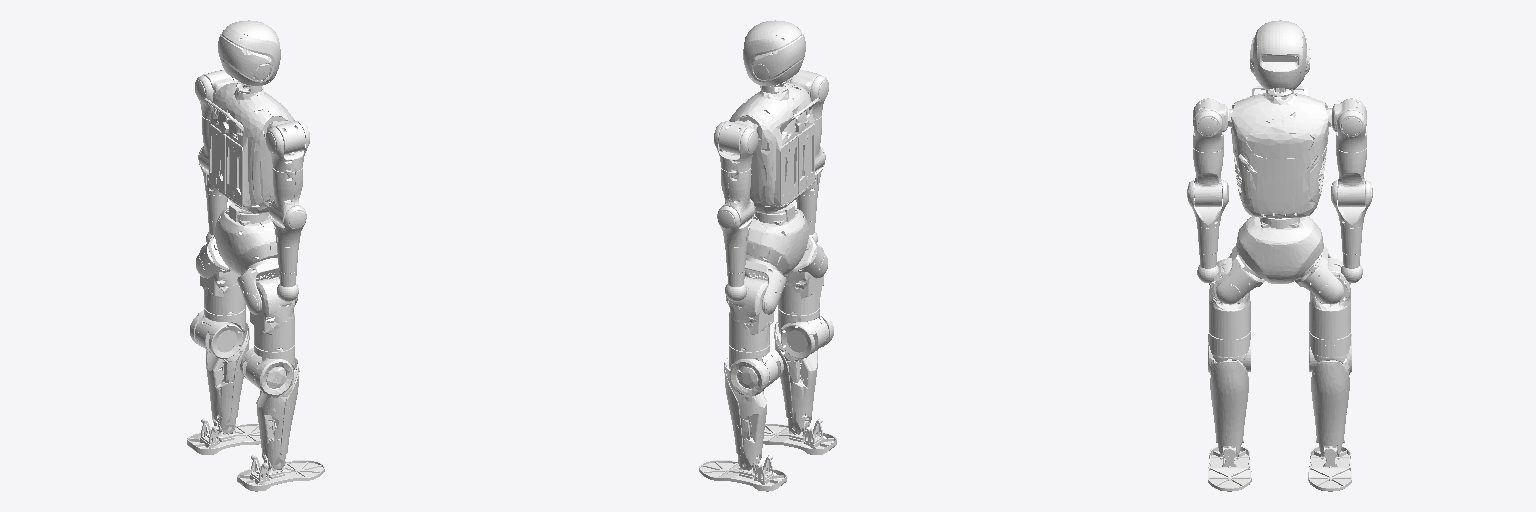
--- Render facts (derived) ---
3 views of the same robot in one strip: view 1: azimuth 30°, elevation 25°; view 2: azimuth 150°, elevation 25°; view 3: azimuth 270°, elevation 25° (orthographic).
Model biped_s13 with 39 links and 38 joints (23 revolute, 15 fixed), rooted at dummy_link, posed every joint at zero.
Visible links, largest first — view 1: base_link, leg_r4_link, zhead_2_link, waist, leg_l4_link, leg_r2_link, zarm_r4_link, leg_l3_link, leg_r6_link, leg_l6_link, leg_l2_link, zarm_r3_link (+7 smaller); view 2: base_link, leg_l4_link, zhead_2_link, waist, leg_r4_link, leg_l2_link, zarm_l4_link, leg_r3_link, leg_l6_link, leg_r6_link, leg_r2_link, zarm_l3_link (+7 smaller); view 3: base_link, waist, zhead_2_link, leg_r4_link, leg_l4_link, leg_l2_link, leg_r2_link, zarm_r4_link, zarm_l4_link, leg_l6_link, leg_r6_link, zarm_l3_link (+7 smaller).
Link boxes in pixels (x1,y1,x2,y2): base_link: (204,83,294,213); leg_r4_link: (256,357,299,469); zhead_2_link: (218,20,280,85); waist: (213,203,277,275); leg_l4_link: (190,310,249,434); leg_r2_link: (250,276,294,351); zarm_r4_link: (269,198,306,301); leg_l3_link: (195,307,245,358); leg_r6_link: (237,455,324,491); leg_l6_link: (187,418,260,454); leg_l2_link: (200,245,245,315); zarm_r3_link: (270,168,302,226); base_link: (729,82,819,213); leg_l4_link: (724,358,767,469); zhead_2_link: (743,20,805,85); waist: (746,203,808,275); leg_r4_link: (774,310,833,434); leg_l2_link: (729,276,773,351); zarm_l4_link: (717,199,754,301); leg_r3_link: (778,307,828,358); leg_l6_link: (699,455,786,491); leg_r6_link: (763,418,836,454); leg_r2_link: (778,245,823,315); zarm_l3_link: (721,168,753,226); base_link: (1228,86,1331,217); waist: (1236,216,1323,283); zhead_2_link: (1250,20,1310,89); leg_r4_link: (1208,334,1248,457); leg_l4_link: (1311,334,1351,457); leg_l2_link: (1309,258,1350,339); leg_r2_link: (1209,258,1250,339); zarm_r4_link: (1187,180,1228,282); zarm_l4_link: (1331,180,1372,282); leg_l6_link: (1308,438,1351,491); leg_r6_link: (1208,438,1251,491); zarm_l3_link: (1336,148,1366,206).
Bounding box of the posed robot: 0.215 × 0.4212 × 1.11 m (x, y, z).
24 mesh visuals loaded from 24 distinct referenced files (24 binary STL).

The robot description file, URDF, robot "biped_s13":
<?xml version='1.0' encoding='utf-8'?>
<robot name="biped_s13">
  <mujoco>
    <compiler meshdir="../meshes/" balanceinertia="true" discardvisual="false" />
  </mujoco>
  <link name="dummy_link" />
  <link name="base_link">
    <inertial>
      <origin xyz="0.00227055 0.0 0.1163574" rpy="0 0 0" />
      <mass value="4.60608758" />
      <inertia ixx="0.06356019" ixy="0.0" ixz="0.0" iyy="0.05314952" iyz="0.0" izz="0.03434989" />
    </inertial>
    <visual>
      <origin xyz="0 0 0" rpy="0 0 0" />
      <geometry>
        <mesh filename="package://kuavo_assets/models/biped_s13/meshes/torso.STL" />
      </geometry>
      <material name="">
        <color rgba="1 1 1 1" />
      </material>
    </visual>
  </link>
  <joint name="dummy_to_base_link" type="fixed">
    <origin xyz="0 0 0" rpy="0 0 0" />
    <parent link="dummy_link" />
    <child link="base_link" />
    <dynamics damping="0.2" friction="0.0"/>
  </joint>
  <link name="waist">
    <inertial>
      <origin xyz="0.0016929 0.0 -0.11846153" rpy="0 0 0" />
      <mass value="5.17438719" />
      <inertia ixx="0.02255553" ixy="0.0" ixz="0.0" iyy="0.01532955" iyz="0.0" izz="0.01667096" />
    </inertial>
    <visual>
      <origin xyz="0 0 0" rpy="0 0 0" />
      <geometry>
        <mesh filename="package://kuavo_assets/models/biped_s13/meshes/waist.STL" />
      </geometry>
      <material name="">
        <color rgba="1 1 1 1" />
      </material>
    </visual>
  </link>
  <joint name="waist_joint" type="revolute">
    <origin xyz="0 0 0" rpy="0 0 0" />
    <parent link="base_link" />
    <child link="waist" />
    <axis xyz="0 0 1" />
    <limit lower="-2.0943951023932" upper="2.0943951023932" effort="50" velocity="8.37333333333333" />
    <dynamics damping="0.2" friction="0.0"/>
  </joint>
  <link name="leg_l1_link">
    <inertial>
      <origin xyz="-0.01281625 -0.02411867 0.0242652" rpy="0 0 0" />
      <mass value="0.41179806" />
      <inertia ixx="0.00053434" ixy="-1.716e-05" ixz="1.637e-05" iyy="0.00095375" iyz="6.321e-05" izz="0.00095062" />
    </inertial>
    <visual>
      <origin xyz="0 0 0" rpy="0 0 0" />
      <geometry>
        <mesh filename="package://kuavo_assets/models/biped_s13/meshes/l_leg_pitch.STL" />
      </geometry>
      <material name="">
        <color rgba="1 1 1 1" />
      </material>
    </visual>
  </link>
  <joint name="leg_l1_joint" type="revolute">
    <origin xyz="0.0 0.1143350698 -0.21673502307" rpy="0 0 0" />
    <parent link="waist" />
    <child link="leg_l1_link" />
    <axis xyz="0 0.70711 -0.70711" />
    <limit lower="-1.65806278939461" upper="1.5707963267949" effort="180" velocity="23.55" />
    <dynamics damping="0.2" friction="0.0" />
  </joint>
  <link name="leg_l2_link">
    <inertial>
      <origin xyz="-0.00113407 0.00022674 -0.055039" rpy="0 0 0" />
      <mass value="2.60733021" />
      <inertia ixx="0.00748166" ixy="0.0" ixz="0.0" iyy="0.00726718" iyz="0.0" izz="0.00283326" />
    </inertial>
    <visual>
      <origin xyz="0 0 0" rpy="0 0 0" />
      <geometry>
        <mesh filename="package://kuavo_assets/models/biped_s13/meshes/l_leg_roll.STL" />
      </geometry>
      <material name="">
        <color rgba="1 1 1 1" />
      </material>
    </visual>
  </link>
  <joint name="leg_l2_joint" type="revolute">
    <origin xyz="0 0 0" rpy="0 0 0" />
    <parent link="leg_l1_link" />
    <child link="leg_l2_link" />
    <axis xyz="1 0 0" />
    <limit lower="-1.0471975511966" upper="0.847008285992848" effort="100" velocity="41.3433333333333" />
    <dynamics damping="0.2" friction="0.0" />
  </joint>
  <link name="leg_l3_link">
    <inertial>
      <origin xyz="-0.01486413 -0.00438159 -0.17562576" rpy="0 0 0" />
      <mass value="1.03798929" />
      <inertia ixx="0.00130665" ixy="0.0" ixz="0.0" iyy="0.00143771" iyz="0.0" izz="0.00092289" />
    </inertial>
    <visual>
      <origin xyz="0 0 0" rpy="0 0 0" />
      <geometry>
        <mesh filename="package://kuavo_assets/models/biped_s13/meshes/l_leg_yaw.STL" />
      </geometry>
      <material name="">
        <color rgba="1 1 1 1" />
      </material>
    </visual>
  </link>
  <joint name="leg_l3_joint" type="revolute">
    <origin xyz="0 0 0" rpy="0 0 0" />
    <parent link="leg_l2_link" />
    <child link="leg_l3_link" />
    <axis xyz="0 0 1" />
    <limit lower="-1.91986217719376" upper="0.878424212528746" effort="100" velocity="41.3433333333333" />
    <dynamics damping="0.2" friction="0.0" />
  </joint>
  <link name="leg_l4_link">
    <inertial>
      <origin xyz="0.02276414 0.00634133 -0.09717249" rpy="0 0 0" />
      <mass value="1.78407172" />
      <inertia ixx="0.00775509" ixy="0.0" ixz="0.0" iyy="0.00820174" iyz="0.0" izz="0.00156093" />
    </inertial>
    <visual>
      <origin xyz="0 0 0" rpy="0 0 0" />
      <geometry>
        <mesh filename="package://kuavo_assets/models/biped_s13/meshes/l_knee.STL" />
      </geometry>
      <material name="">
        <color rgba="1 1 1 1" />
      </material>
    </visual>
  </link>
  <joint name="leg_l4_joint" type="revolute">
    <origin xyz="-0.021 0 -0.182" rpy="0 0 0" />
    <parent link="leg_l3_link" />
    <child link="leg_l4_link" />
    <axis xyz="0 1 0" />
    <limit lower="0.0" upper="2.61799387799149" effort="180" velocity="23.55" />
    <dynamics damping="0.2" friction="0.0" />
  </joint>
  <link name="leg_l5_link">
    <inertial>
      <origin xyz="0.0 0.0 0.0" rpy="0 0 0" />
      <mass value="0.06923766" />
      <inertia ixx="6.7e-04" ixy="0.0" ixz="0.0" iyy="6.7e-04" iyz="0.0" izz="1.172e-04" />
    </inertial>
    <visual>
      <origin xyz="0 0 0" rpy="0 0 0" />
      <geometry>
        <mesh filename="package://kuavo_assets/models/biped_s13/meshes/l_foot_pitch.STL" />
      </geometry>
      <material name="">
        <color rgba="1 1 1 1" />
      </material>
    </visual>
  </link>
  <joint name="leg_l5_joint" type="revolute">
    <origin xyz="0.021 0 -0.235" rpy="0 0 0" />
    <parent link="leg_l4_link" />
    <child link="leg_l5_link" />
    <axis xyz="0 1 0" />
    <limit lower="-0.872664625997165" upper="0.523598775598299" effort="36" velocity="23.0266666666667" />
    <dynamics damping="0.2" friction="0.0" />
  </joint>
  <link name="leg_l6_link">
    <inertial>
      <origin xyz="-0.00076721 2.797e-05 -0.02337788" rpy="0 0 0" />
      <mass value="0.38565431" />
      <inertia ixx="0.00026927" ixy="0.0" ixz="0.0" iyy="0.00114572" iyz="0.0" izz="0.00129886" />
    </inertial>
    <visual>
      <origin xyz="0 0 0" rpy="0 0 0" />
      <geometry>
        <mesh filename="package://kuavo_assets/models/biped_s13/meshes/l_foot_roll_big.STL" />
      </geometry>
      <material name="">
        <color rgba="1 1 1 1" />
      </material>
    </visual>
  </link>
  <joint name="leg_l6_joint" type="revolute">
    <origin xyz="0 0 0" rpy="0 0 0" />
    <parent link="leg_l5_link" />
    <child link="leg_l6_link" />
    <axis xyz="1 0 0" />
    <limit lower="-0.261799387799149" upper="0.261799387799149" effort="36" velocity="23.0266666666667" />
    <dynamics damping="0.2" friction="0.0" />
  </joint>
  <link name="ll_foot_toe">
    <collision>
      <origin rpy="0 0 0" xyz="0 0 0" />
      <geometry>
        <sphere radius="0.005" />
      </geometry>
    </collision>
  </link>
  <joint name="ll_foot_toe_joint" type="fixed">
    <origin xyz="0.126 0.05 -0.0435" rpy="0 0 0" />
    <parent link="leg_l6_link" />
    <child link="ll_foot_toe" />
  </joint>
  <link name="ll_foot_heel">
    <collision>
      <origin rpy="0 0 0" xyz="0 0 0" />
      <geometry>
        <sphere radius="0.005" />
      </geometry>
    </collision>
  </link>
  <joint name="ll_foot_heel_joint" type="fixed">
    <origin xyz="-0.089 0.05 -0.0435" rpy="0 0 0" />
    <parent link="leg_l6_link" />
    <child link="ll_foot_heel" />
  </joint>
  <link name="lr_foot_toe">
    <collision>
      <origin rpy="0 0 0" xyz="0 0 0" />
      <geometry>
        <sphere radius="0.005" />
      </geometry>
    </collision>
  </link>
  <joint name="lr_foot_toe_joint" type="fixed">
    <origin xyz="0.126 -0.05 -0.0435" rpy="0 0 0" />
    <parent link="leg_l6_link" />
    <child link="lr_foot_toe" />
  </joint>
  <link name="lr_foot_heel">
    <collision>
      <origin rpy="0 0 0" xyz="0 0 0" />
      <geometry>
        <sphere radius="0.005" />
      </geometry>
    </collision>
  </link>
  <joint name="lr_foot_heel_joint" type="fixed">
    <origin xyz="-0.089 -0.05 -0.0435" rpy="0 0 0" />
    <parent link="leg_l6_link" />
    <child link="lr_foot_heel" />
  </joint>
  <link name="l_foot_toe">
    <collision>
      <origin rpy="0 0 0" xyz="0 0 0" />
      <geometry>
        <sphere radius="0.005" />
      </geometry>
    </collision>
  </link>
  <joint name="l_foot_toe_joint" type="fixed">
    <origin xyz="-0.02 0.05 -0.0435" rpy="0 0 0" />
    <parent link="leg_l6_link" />
    <child link="l_foot_toe" />
  </joint>
  <link name="l_foot_heel">
    <collision>
      <origin rpy="0 0 0" xyz="0 0 0" />
      <geometry>
        <sphere radius="0.005" />
      </geometry>
    </collision>
  </link>
  <joint name="l_foot_heel_joint" type="fixed">
    <origin xyz="-0.02 -0.05 -0.0435" rpy="0 0 0" />
    <parent link="leg_l6_link" />
    <child link="l_foot_heel" />
  </joint>
  <link name="leg_r1_link">
    <inertial>
      <origin xyz="-0.01281237 0.02411826 0.02426469" rpy="0 0 0" />
      <mass value="0.4119068" />
      <inertia ixx="0.00053445" ixy="1.725e-05" ixz="1.639e-05" iyy="0.00095388" iyz="-6.324e-05" izz="0.00095076" />
    </inertial>
    <visual>
      <origin xyz="0 0 0" rpy="0 0 0" />
      <geometry>
        <mesh filename="package://kuavo_assets/models/biped_s13/meshes/r_leg_pitch.STL" />
      </geometry>
      <material name="">
        <color rgba="1 1 1 1" />
      </material>
    </visual>
  </link>
  <joint name="leg_r1_joint" type="revolute">
    <origin xyz="0.0 -0.1143350698 -0.21673502307" rpy="0 0 0" />
    <parent link="waist" />
    <child link="leg_r1_link" />
    <axis xyz="0 -0.70711 -0.70711" />
    <limit lower="-1.65806278939461" upper="1.5707963267949" effort="180" velocity="23.55" />
    <dynamics damping="0.2" friction="0.0" />
  </joint>
  <link name="leg_r2_link">
    <inertial>
      <origin xyz="-0.00091249 -5.402e-05 -0.0552687" rpy="0 0 0" />
      <mass value="2.60770806" />
      <inertia ixx="0.00748166" ixy="0.0" ixz="0.0" iyy="0.00726718" iyz="0.0" izz="0.00283326" />
    </inertial>
    <visual>
      <origin xyz="0 0 0" rpy="0 0 0" />
      <geometry>
        <mesh filename="package://kuavo_assets/models/biped_s13/meshes/r_leg_roll.STL" />
      </geometry>
      <material name="">
        <color rgba="1 1 1 1" />
      </material>
    </visual>
  </link>
  <joint name="leg_r2_joint" type="revolute">
    <origin xyz="0 0 0" rpy="0 0 0" />
    <parent link="leg_r1_link" />
    <child link="leg_r2_link" />
    <axis xyz="1 0 0" />
    <limit lower="-1.0471975511966" upper="0.847008285992848" effort="100" velocity="41.3433333333333" />
    <dynamics damping="0.2" friction="0.0" />
  </joint>
  <link name="leg_r3_link">
    <inertial>
      <origin xyz="-0.0150602 0.00499577 -0.17454657" rpy="0 0 0" />
      <mass value="1.03798252" />
      <inertia ixx="0.00130665" ixy="0.0" ixz="0.0" iyy="0.00143771" iyz="0.0" izz="0.00092289" />
    </inertial>
    <visual>
      <origin xyz="0 0 0" rpy="0 0 0" />
      <geometry>
        <mesh filename="package://kuavo_assets/models/biped_s13/meshes/r_leg_yaw.STL" />
      </geometry>
      <material name="">
        <color rgba="1 1 1 1" />
      </material>
    </visual>
  </link>
  <joint name="leg_r3_joint" type="revolute">
    <origin xyz="0 0 0" rpy="0 0 0" />
    <parent link="leg_r2_link" />
    <child link="leg_r3_link" />
    <axis xyz="0 0 1" />
    <limit lower="-1.91986217719376" upper="0.878424212528746" effort="100" velocity="41.3433333333333" />
    <dynamics damping="0.2" friction="0.0" />
  </joint>
  <link name="leg_r4_link">
    <inertial>
      <origin xyz="0.02271993 -0.0079271 -0.09808788" rpy="0 0 0" />
      <mass value="1.78444026" />
      <inertia ixx="0.00775509" ixy="0.0" ixz="0.0" iyy="0.00820174" iyz="0.0" izz="0.00156093" />
    </inertial>
    <visual>
      <origin xyz="0 0 0" rpy="0 0 0" />
      <geometry>
        <mesh filename="package://kuavo_assets/models/biped_s13/meshes/r_knee.STL" />
      </geometry>
      <material name="">
        <color rgba="1 1 1 1" />
      </material>
    </visual>
  </link>
  <joint name="leg_r4_joint" type="revolute">
    <origin xyz="-0.021 0 -0.182" rpy="0 0 0" />
    <parent link="leg_r3_link" />
    <child link="leg_r4_link" />
    <axis xyz="0 1 0" />
    <limit lower="0.0" upper="2.61799387799149" effort="180" velocity="23.55" />
    <dynamics damping="0.2" friction="0.0" />
  </joint>
  <link name="leg_r5_link">
    <inertial>
      <origin xyz="0.0 0.0 0.0" rpy="0 0 0" />
      <mass value="0.06923766" />
      <inertia ixx="6.7e-04" ixy="0.0" ixz="0.0" iyy="6.7e-04" iyz="0.0" izz="1.172e-04" />
    </inertial>
    <visual>
      <origin xyz="0 0 0" rpy="0 0 0" />
      <geometry>
        <mesh filename="package://kuavo_assets/models/biped_s13/meshes/r_foot_pitch.STL" />
      </geometry>
      <material name="">
        <color rgba="1 1 1 1" />
      </material>
    </visual>
  </link>
  <joint name="leg_r5_joint" type="revolute">
    <origin xyz="0.021 0 -0.235" rpy="0 0 0" />
    <parent link="leg_r4_link" />
    <child link="leg_r5_link" />
    <axis xyz="0 1 0" />
    <limit lower="-0.872664625997165" upper="0.523598775598299" effort="36" velocity="23.0266666666667" />
    <dynamics damping="0.2" friction="0.0" />
  </joint>
  <link name="leg_r6_link">
    <inertial>
      <origin xyz="-0.00075494 -2.665e-05 -0.02339266" rpy="0 0 0" />
      <mass value="0.38537958" />
      <inertia ixx="0.00026927" ixy="0.0" ixz="0.0" iyy="0.00114572" iyz="0.0" izz="0.00129886" />
    </inertial>
    <visual>
      <origin xyz="0 0 0" rpy="0 0 0" />
      <geometry>
        <mesh filename="package://kuavo_assets/models/biped_s13/meshes/r_foot_roll_big.STL" />
      </geometry>
      <material name="">
        <color rgba="1 1 1 1" />
      </material>
    </visual>
  </link>
  <joint name="leg_r6_joint" type="revolute">
    <origin xyz="0 0 0" rpy="0 0 0" />
    <parent link="leg_r5_link" />
    <child link="leg_r6_link" />
    <axis xyz="1 0 0" />
    <limit lower="-0.261799387799149" upper="0.261799387799149" effort="36" velocity="23.0266666666667" />
    <dynamics damping="0.2" friction="0.0" />
  </joint>
  <link name="rl_foot_toe">
    <collision>
      <origin rpy="0 0 0" xyz="0 0 0" />
      <geometry>
        <sphere radius="0.005" />
      </geometry>
    </collision>
  </link>
  <joint name="rl_foot_toe_joint" type="fixed">
    <origin xyz="0.126 0.05 -0.0435" rpy="0 0 0" />
    <parent link="leg_r6_link" />
    <child link="rl_foot_toe" />
  </joint>
  <link name="rl_foot_heel">
    <collision>
      <origin rpy="0 0 0" xyz="0 0 0" />
      <geometry>
        <sphere radius="0.005" />
      </geometry>
    </collision>
  </link>
  <joint name="rl_foot_heel_joint" type="fixed">
    <origin xyz="-0.089 0.05 -0.0435" rpy="0 0 0" />
    <parent link="leg_r6_link" />
    <child link="rl_foot_heel" />
  </joint>
  <link name="rr_foot_toe">
    <collision>
      <origin rpy="0 0 0" xyz="0 0 0" />
      <geometry>
        <sphere radius="0.005" />
      </geometry>
    </collision>
  </link>
  <joint name="rr_foot_toe_joint" type="fixed">
    <origin xyz="0.126 -0.05 -0.0435" rpy="0 0 0" />
    <parent link="leg_r6_link" />
    <child link="rr_foot_toe" />
  </joint>
  <link name="rr_foot_heel">
    <collision>
      <origin rpy="0 0 0" xyz="0 0 0" />
      <geometry>
        <sphere radius="0.005" />
      </geometry>
    </collision>
  </link>
  <joint name="rr_foot_heel_joint" type="fixed">
    <origin xyz="-0.089 -0.05 -0.0435" rpy="0 0 0" />
    <parent link="leg_r6_link" />
    <child link="rr_foot_heel" />
  </joint>
  <link name="r_foot_toe">
    <collision>
      <origin rpy="0 0 0" xyz="0 0 0" />
      <geometry>
        <sphere radius="0.005" />
      </geometry>
    </collision>
  </link>
  <joint name="r_foot_toe_joint" type="fixed">
    <origin xyz="-0.02 0.05 -0.0435" rpy="0 0 0" />
    <parent link="leg_r6_link" />
    <child link="r_foot_toe" />
  </joint>
  <link name="r_foot_heel">
    <collision>
      <origin rpy="0 0 0" xyz="0 0 0" />
      <geometry>
        <sphere radius="0.005" />
      </geometry>
    </collision>
  </link>
  <joint name="r_foot_heel_joint" type="fixed">
    <origin xyz="-0.02 -0.05 -0.0435" rpy="0 0 0" />
    <parent link="leg_r6_link" />
    <child link="r_foot_heel" />
  </joint>
  <link name="zarm_l1_link">
    <inertial>
      <origin xyz="0.00335591 -0.00249177 1.895e-05" rpy="0 0 0" />
      <mass value="0.44491793" />
      <inertia ixx="0.00028057" ixy="3.5e-05" ixz="2.3e-05" iyy="0.00024754" iyz="7e-05" izz="0.0002873" />
    </inertial>
    <visual>
      <origin xyz="0 0 0" rpy="0 0 0" />
      <geometry>
        <mesh filename="package://kuavo_assets/models/biped_s13/meshes/l_arm_pitch.STL" />
      </geometry>
      <material name="">
        <color rgba="1 1 1 1" />
      </material>
    </visual>
  </link>
  <joint name="zarm_l1_joint" type="revolute">
    <origin xyz="0.0073474151 0.16250437899999998 0.20242688398" rpy="0 0 0" />
    <parent link="base_link" />
    <child link="zarm_l1_link" />
    <axis xyz="0 1 0" />
    <limit lower="-3.14159265358979" upper="2.0943951023932" effort="12" velocity="7.32666666666667" />
    <dynamics damping="0.2" friction="0.0" />
  </joint>
  <link name="zarm_l2_link">
    <inertial>
      <origin xyz="0.00025941 0.0 -0.03684584" rpy="0 0 0" />
      <mass value="0.2598439" />
      <inertia ixx="0.0003221" ixy="0.0" ixz="-6.2e-05" iyy="0.00043526" iyz="0.0" izz="0.00030902" />
    </inertial>
    <visual>
      <origin xyz="0 0 0" rpy="0 0 0" />
      <geometry>
        <mesh filename="package://kuavo_assets/models/biped_s13/meshes/l_arm_roll.STL" />
      </geometry>
      <material name="">
        <color rgba="1 1 1 1" />
      </material>
    </visual>
  </link>
  <joint name="zarm_l2_joint" type="revolute">
    <origin xyz="0 0 0" rpy="0 0 0" />
    <parent link="zarm_l1_link" />
    <child link="zarm_l2_link" />
    <axis xyz="1 0 0" />
    <limit lower="-0.349065850398866" upper="3.49065850398866" effort="12" velocity="7.32666666666667" />
    <dynamics damping="0.2" friction="0.0" />
  </joint>
  <link name="zarm_l3_link">
    <inertial>
      <origin xyz="-0.0001383 -0.00323921 -0.14314847" rpy="0 0 0" />
      <mass value="0.77406554" />
      <inertia ixx="0.00201794" ixy="-2.6e-05" ixz="-3e-05" iyy="0.00198657" iyz="-0.00011116" izz="0.00042873" />
    </inertial>
    <visual>
      <origin xyz="0 0 0" rpy="0 0 0" />
      <geometry>
        <mesh filename="package://kuavo_assets/models/biped_s13/meshes/l_arm_yaw.STL" />
      </geometry>
      <material name="">
        <color rgba="1 1 1 1" />
      </material>
    </visual>
  </link>
  <joint name="zarm_l3_joint" type="revolute">
    <origin xyz="0 0 0" rpy="0 0 0" />
    <parent link="zarm_l2_link" />
    <child link="zarm_l3_link" />
    <axis xyz="0 0 1" />
    <limit lower="-1.5707963267949" upper="1.5707963267949" effort="12" velocity="7.32666666666667" />
    <dynamics damping="0.2" friction="0.0" />
  </joint>
  <link name="zarm_l4_link">
    <inertial>
      <origin xyz="-0.00091965 -2.274e-05 -0.06567892" rpy="0 0 0" />
      <mass value="0.2274965" />
      <inertia ixx="0.00109021" ixy="-6.4e-05" ixz="8.8e-05" iyy="0.00099134" iyz="-1.9e-05" izz="0.00021171" />
    </inertial>
    <visual>
      <origin xyz="0 0 0" rpy="0 0 0" />
      <geometry>
        <mesh filename="package://kuavo_assets/models/biped_s13/meshes/l_forearm.STL" />
      </geometry>
      <material name="">
        <color rgba="1 1 1 1" />
      </material>
    </visual>
  </link>
  <joint name="zarm_l4_joint" type="revolute">
    <origin xyz="0 0 -0.188" rpy="0 0 0" />
    <parent link="zarm_l3_link" />
    <child link="zarm_l4_link" />
    <axis xyz="0 1 0" />
    <limit lower="-2.26892802759263" upper="0.0" effort="12" velocity="7.32666666666667" />
    <dynamics damping="0.2" friction="0.0" />
  </joint>
  <link name="zarm_l7_end_effector">
    <collision>
      <origin rpy="0 0 0" xyz="0 0 0" />
      <geometry>
        <sphere radius="0.005" />
      </geometry>
    </collision>
  </link>
  <joint name="zarm_l7_end_effector_joint" type="fixed">
    <origin xyz="0 -0.00 -0.17" rpy="0 0 0" />
    <parent link="zarm_l4_link" />
    <child link="zarm_l7_end_effector" />
  </joint>
  <link name="zarm_r1_link">
    <inertial>
      <origin xyz="0.00335581 0.00249177 1.809e-05" rpy="0 0 0" />
      <mass value="0.44491659" />
      <inertia ixx="0.00028057" ixy="-3.5e-05" ixz="2.4e-05" iyy="0.00024753" iyz="-6e-05" izz="0.00028729" />
    </inertial>
    <visual>
      <origin xyz="0 0 0" rpy="0 0 0" />
      <geometry>
        <mesh filename="package://kuavo_assets/models/biped_s13/meshes/r_arm_pitch.STL" />
      </geometry>
      <material name="">
        <color rgba="1 1 1 1" />
      </material>
    </visual>
  </link>
  <joint name="zarm_r1_joint" type="revolute">
    <origin xyz="0.0073474151 -0.16250437899999998 0.20242688398" rpy="0 0 0" />
    <parent link="base_link" />
    <child link="zarm_r1_link" />
    <axis xyz="0 1 0" />
    <limit lower="-3.14159265358979" upper="2.0943951023932" effort="12" velocity="7.32666666666667" />
    <dynamics damping="0.2" friction="0.0" />
  </joint>
  <link name="zarm_r2_link">
    <inertial>
      <origin xyz="0.0002594 0.0 -0.03684556" rpy="0 0 0" />
      <mass value="0.25983512" />
      <inertia ixx="0.00032209" ixy="0.0" ixz="-6.2e-05" iyy="0.00043526" iyz="0.0" izz="0.00030901" />
    </inertial>
    <visual>
      <origin xyz="0 0 0" rpy="0 0 0" />
      <geometry>
        <mesh filename="package://kuavo_assets/models/biped_s13/meshes/r_arm_roll.STL" />
      </geometry>
      <material name="">
        <color rgba="1 1 1 1" />
      </material>
    </visual>
  </link>
  <joint name="zarm_r2_joint" type="revolute">
    <origin xyz="0 0 0" rpy="0 0 0" />
    <parent link="zarm_r1_link" />
    <child link="zarm_r2_link" />
    <axis xyz="1 0 0" />
    <limit lower="-3.49065850398866" upper="0.349065850398866" effort="12" velocity="7.32666666666667" />
    <dynamics damping="0.2" friction="0.0" />
  </joint>
  <link name="zarm_r3_link">
    <inertial>
      <origin xyz="-0.00013784 0.00323927 -0.14314868" rpy="0 0 0" />
      <mass value="0.774042" />
      <inertia ixx="0.00201792" ixy="2.6e-05" ixz="-3e-05" iyy="0.00198653" iyz="0.00011115" izz="0.00042871" />
    </inertial>
    <visual>
      <origin xyz="0 0 0" rpy="0 0 0" />
      <geometry>
        <mesh filename="package://kuavo_assets/models/biped_s13/meshes/r_arm_yaw.STL" />
      </geometry>
      <material name="">
        <color rgba="1 1 1 1" />
      </material>
    </visual>
  </link>
  <joint name="zarm_r3_joint" type="revolute">
    <origin xyz="0 0 0" rpy="0 0 0" />
    <parent link="zarm_r2_link" />
    <child link="zarm_r3_link" />
    <axis xyz="0 0 1" />
    <limit lower="-1.5707963267949" upper="1.5707963267949" effort="12" velocity="7.32666666666667" />
    <dynamics damping="0.2" friction="0.0" />
  </joint>
  <link name="zarm_r4_link">
    <inertial>
      <origin xyz="-0.00091857 2.37e-05 -0.06568304" rpy="0 0 0" />
      <mass value="0.22747514" />
      <inertia ixx="0.00109014" ixy="6.5e-05" ixz="8.8e-05" iyy="0.00099128" iyz="1.7e-05" izz="0.00021169" />
    </inertial>
    <visual>
      <origin xyz="0 0 0" rpy="0 0 0" />
      <geometry>
        <mesh filename="package://kuavo_assets/models/biped_s13/meshes/r_forearm.STL" />
      </geometry>
      <material name="">
        <color rgba="1 1 1 1" />
      </material>
    </visual>
  </link>
  <joint name="zarm_r4_joint" type="revolute">
    <origin xyz="0 0 -0.188" rpy="0 0 0" />
    <parent link="zarm_r3_link" />
    <child link="zarm_r4_link" />
    <axis xyz="0 1 0" />
    <limit lower="-2.26892802759263" upper="0.0" effort="12" velocity="7.32666666666667" />
    <dynamics damping="0.2" friction="0.0" />
  </joint>
  <link name="zarm_r7_end_effector">
    <collision>
      <origin rpy="0 0 0" xyz="0 0 0" />
      <geometry>
        <sphere radius="0.005" />
      </geometry>
    </collision>
  </link>
  <joint name="zarm_r7_end_effector_joint" type="fixed">
    <origin xyz="0 0.00 -0.17" rpy="0 0 0" />
    <parent link="zarm_r4_link" />
    <child link="zarm_r7_end_effector" />
  </joint>
  <link name="zhead_1_link">
    <inertial>
      <origin xyz="-2.17e-06 0.0123278 0.01882857" rpy="0 0 0" />
      <mass value="0.8600171" />
      <inertia ixx="0.00182827" ixy="4.5e-05" ixz="6.5e-05" iyy="0.00158462" iyz="-0.00017227" izz="0.00060882" />
    </inertial>
    <visual>
      <origin xyz="0 0 0" rpy="0 0 0" />
      <geometry>
        <mesh filename="package://kuavo_assets/models/biped_s13/meshes/head_yaw.STL" />
      </geometry>
      <material name="">
        <color rgba="1 1 1 1" />
      </material>
    </visual>
  </link>
  <joint name="zhead_1_joint" type="revolute">
    <origin xyz="0.0 0.0 0.33128227967" rpy="0 0 0" />
    <parent link="base_link" />
    <child link="zhead_1_link" />
    <axis xyz="0 0 1" />
    <limit lower="-1.5707963267949" upper="1.5707963267949" effort="50" velocity="8.37333333333333" />
    <dynamics damping="0.2" friction="0.0" />
  </joint>
  <link name="zhead_2_link">
    <inertial>
      <origin xyz="0.01483981 -0.0004003 0.03127021" rpy="0 0 0" />
      <mass value="0.35420007" />
      <inertia ixx="0.00092946" ixy="1.5e-05" ixz="-1.067e-05" iyy="0.00095408" iyz="-3.7e-05" izz="0.00114126" />
    </inertial>
    <visual>
      <origin xyz="0 0 0" rpy="0 0 0" />
      <geometry>
        <mesh filename="package://kuavo_assets/models/biped_s13/meshes/head_pitch.STL" />
      </geometry>
      <material name="">
        <color rgba="1 1 1 1" />
      </material>
    </visual>
  </link>
  <joint name="zhead_2_joint" type="revolute">
    <origin xyz="0 0 0" rpy="0 0 0" />
    <parent link="zhead_1_link" />
    <child link="zhead_2_link" />
    <axis xyz="0 1 0" />
    <limit lower="0.0" upper="0.523598775598299" effort="50" velocity="8.37333333333333" />
    <dynamics damping="0.2" friction="0.0" />
  </joint>

    <!-- 在原有的gazebo插件配置后添加 -->
  <!-- 真值 -->
  <gazebo>
    <plugin filename="libgazebo_ros_p3d.so" name="p3d_base_controller">
      <alwaysOn>true</alwaysOn>
      <updateRate>500.0</updateRate>
      <bodyName>base_link</bodyName>
      <topicName>ground_truth/state</topicName>
      <gaussianNoise>0</gaussianNoise>
      <frameName>world</frameName>
      <xyzOffsets>0 0 0</xyzOffsets>
      <rpyOffsets>0 0 0</rpyOffsets>
    </plugin>
  </gazebo>

  <!-- 左脚 -->
  <gazebo reference="leg_l6_link">
    <mu1>1.5</mu1>
    <mu2>2.5</mu2>
    <self_collide>1</self_collide>
    <kp value="1000000.0"/>
    <kd value="100.0"/>
    <maxVel>3</maxVel>
    <minDepth>0.00</minDepth>
  </gazebo>
  <gazebo reference="l_foot_heel">
    <mu1>1.5</mu1>
    <mu2>2.5</mu2>
    <self_collide>1</self_collide>
    <kp value="1000000.0"/>
    <kd value="100.0"/>
    <maxVel>3</maxVel>
    <minDepth>0.00</minDepth>
  </gazebo>
  <gazebo reference="l_foot_toe">
    <mu1>1.5</mu1>
    <mu2>2.5</mu2>
    <self_collide>1</self_collide>
    <kp value="1000000.0"/>
    <kd value="100.0"/>
    <maxVel>3</maxVel>
    <minDepth>0.00</minDepth>
  </gazebo>
  <gazebo reference="lr_foot_heel">
    <mu1>1.5</mu1>
    <mu2>2.5</mu2>
    <self_collide>1</self_collide>
    <kp value="1000000.0"/>
    <kd value="100.0"/>
    <maxVel>3</maxVel>
    <minDepth>0.00</minDepth>
  </gazebo>
  <gazebo reference="lr_foot_toe">
    <mu1>1.5</mu1>
    <mu2>2.5</mu2>
    <self_collide>1</self_collide>
    <kp value="1000000.0"/>
    <kd value="100.0"/>
    <maxVel>3</maxVel>
    <minDepth>0.00</minDepth>
  </gazebo>
  <gazebo reference="ll_foot_heel">
    <mu1>1.5</mu1>
    <mu2>2.5</mu2>
    <self_collide>1</self_collide>
    <kp value="1000000.0"/>
    <kd value="100.0"/>
    <maxVel>3</maxVel>
    <minDepth>0.00</minDepth>
  </gazebo>
  <gazebo reference="ll_foot_toe">
    <mu1>1.5</mu1>
    <mu2>2.5</mu2>
    <self_collide>1</self_collide>
    <kp value="1000000.0"/>
    <kd value="100.0"/>
    <maxVel>3</maxVel>
    <minDepth>0.00</minDepth>
  </gazebo>

  <!-- 右脚 -->
  <gazebo reference="leg_r6_link">
    <mu1>1.5</mu1>
    <mu2>2.5</mu2>
    <self_collide>1</self_collide>
    <kp value="1000000.0"/>
    <kd value="100.0"/>
    <maxVel>3</maxVel>
    <minDepth>0.00</minDepth>
  </gazebo>
  <gazebo reference="r_foot_heel">
    <mu1>1.5</mu1>
    <mu2>2.5</mu2>
    <self_collide>1</self_collide>
    <kp value="1000000.0"/>
    <kd value="100.0"/>
    <maxVel>3</maxVel>
    <minDepth>0.00</minDepth>
  </gazebo>
  <gazebo reference="r_foot_toe">
    <mu1>1.5</mu1>
    <mu2>2.5</mu2>
    <self_collide>1</self_collide>
    <kp value="1000000.0"/>
    <kd value="100.0"/>
    <maxVel>3</maxVel>
    <minDepth>0.00</minDepth>
  </gazebo>
  <gazebo reference="rl_foot_toe">
    <mu1>1.5</mu1>
    <mu2>2.5</mu2>
    <self_collide>1</self_collide>
    <kp value="1000000.0"/>
    <kd value="100.0"/>
    <maxVel>3</maxVel>
    <minDepth>0.00</minDepth>
  </gazebo>
  <gazebo reference="rl_foot_heel">
    <mu1>1.5</mu1>
    <mu2>2.5</mu2>
    <self_collide>1</self_collide>
    <kp value="1000000.0"/>
    <kd value="100.0"/>
    <maxVel>3</maxVel>
    <minDepth>0.00</minDepth>
  </gazebo>
  <gazebo reference="rr_foot_toe">
    <mu1>1.5</mu1>
    <mu2>2.5</mu2>
    <self_collide>1</self_collide>
    <kp value="1000000.0"/>
    <kd value="100.0"/>
    <maxVel>3</maxVel>
    <minDepth>0.00</minDepth>
  </gazebo>
  <gazebo reference="rr_foot_heel">
    <mu1>1.5</mu1>
    <mu2>2.5</mu2>
    <self_collide>1</self_collide>
    <kp value="1000000.0"/>
    <kd value="100.0"/>
    <maxVel>3</maxVel>
    <minDepth>0.00</minDepth>
  </gazebo>

  <!-- 仿真插件 -->
  <gazebo>
    <plugin name="gazebo_shm_interface" filename="libgazebo_sim_shm_interface.so">
      <!-- IMU配置 gazebo中fixed连接的link都只能获取第一个-->
      <imu>
        <frame_id>dummy_link</frame_id>
      </imu>
      
      <!-- 关节配置 -->
      <joints>
        <!-- 左腿关节 -->
        <joint><name>waist_joint</name></joint>
        <joint><name>leg_l1_joint</name></joint>
        <joint><name>leg_l2_joint</name></joint>
        <joint><name>leg_l3_joint</name></joint>
        <joint><name>leg_l4_joint</name></joint>
        <joint><name>leg_l5_joint</name></joint>
        <joint><name>leg_l6_joint</name></joint>
        
        <!-- 右腿关节 -->
        <joint><name>leg_r1_joint</name></joint>
        <joint><name>leg_r2_joint</name></joint>
        <joint><name>leg_r3_joint</name></joint>
        <joint><name>leg_r4_joint</name></joint>
        <joint><name>leg_r5_joint</name></joint>
        <joint><name>leg_r6_joint</name></joint>
        
        <!-- 左臂关节 -->
        <joint><name>zarm_l1_joint</name></joint>
        <joint><name>zarm_l2_joint</name></joint>
        <joint><name>zarm_l3_joint</name></joint>
        <joint><name>zarm_l4_joint</name></joint>

        
        <!-- 右臂关节 -->
        <joint><name>zarm_r1_joint</name></joint>
        <joint><name>zarm_r2_joint</name></joint>
        <joint><name>zarm_r3_joint</name></joint>
        <joint><name>zarm_r4_joint</name></joint>

        
        <!-- 头部关节 -->
        <joint><name>zhead_1_joint</name></joint>
        <joint><name>zhead_2_joint</name></joint>
      </joints>
      
      <!-- 接触传感器配置 -->
      <contacts>
        <contact><link>ll_foot_toe</link></contact>
        <contact><link>ll_foot_heel</link></contact>
        <contact><link>lr_foot_toe</link></contact>
        <contact><link>lr_foot_heel</link></contact>
        <contact><link>rl_foot_toe</link></contact>
        <contact><link>rl_foot_heel</link></contact>
        <contact><link>rr_foot_toe</link></contact>
        <contact><link>rr_foot_heel</link></contact>
      </contacts>
      </plugin>
  </gazebo>
</robot>
